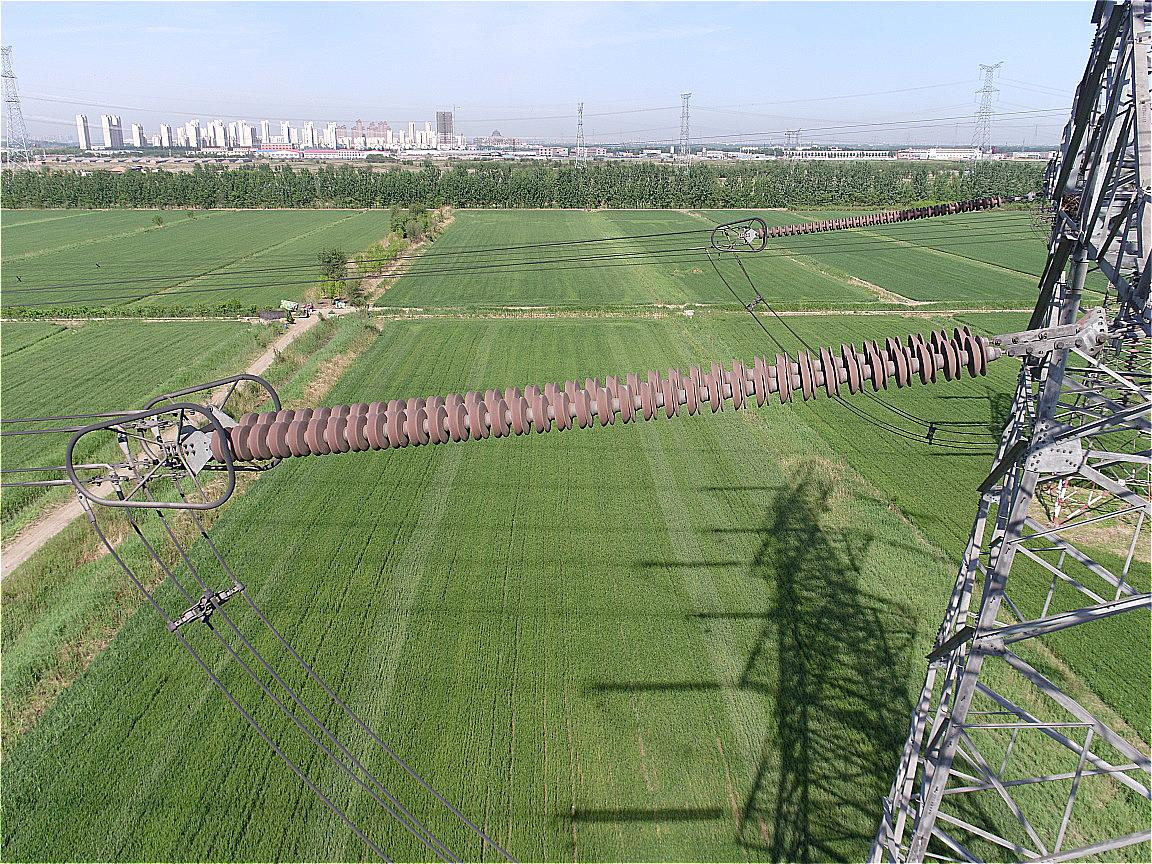insultor2: (210, 322, 991, 467), (758, 193, 1002, 239)
